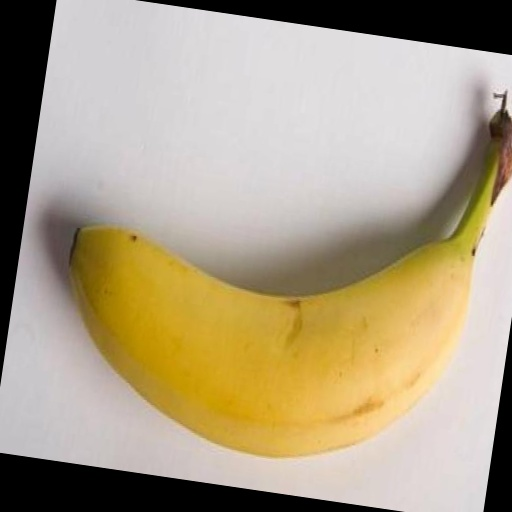fruit: (70, 97, 512, 456)
